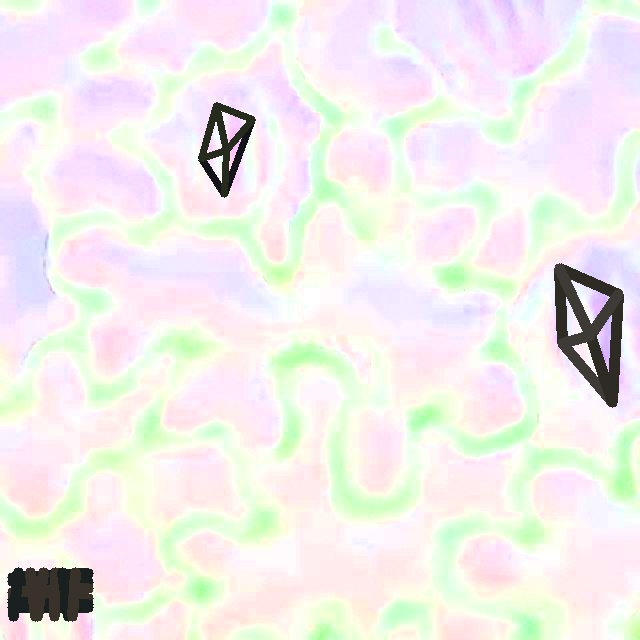close: (7, 568, 92, 620)
open: (558, 264, 622, 406), (198, 102, 255, 197)
